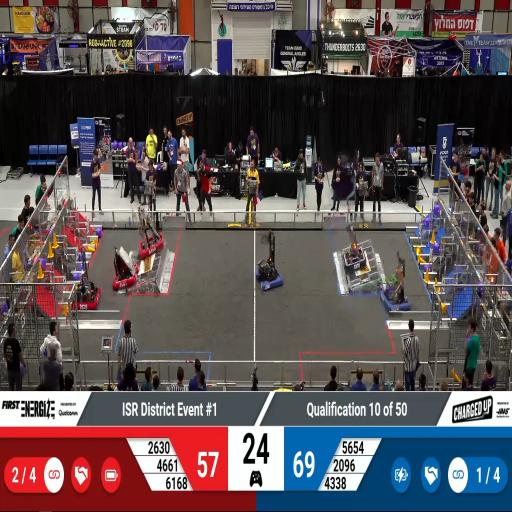robot: (254, 244, 283, 294), (379, 274, 411, 316), (74, 274, 101, 313), (138, 218, 164, 258), (339, 236, 367, 273), (112, 254, 139, 290)
